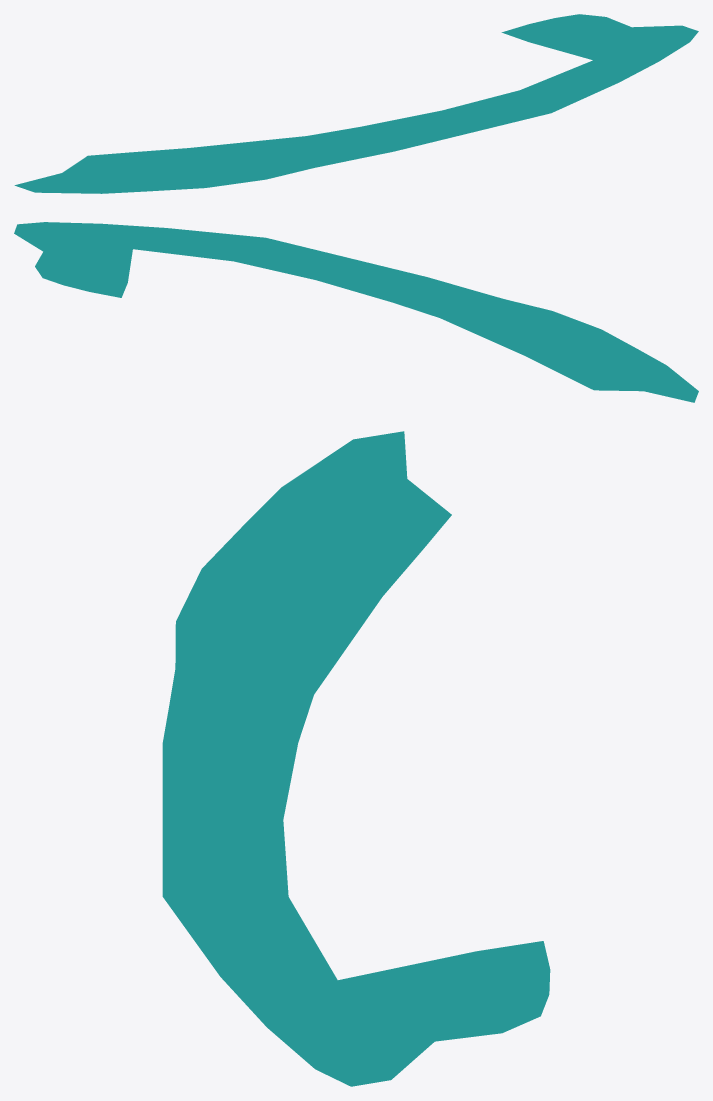
Rendered from frog_color_4.fbx.
The picture shows the model from 3 angles, top to bottom: view 1: azimuth 30°, elevation 25°; view 2: azimuth 150°, elevation 25°; view 3: azimuth 270°, elevation 25°; orthographic projection. The views are drawn at different scales.
Visible parts, largest first — view 1: frog_color_4; view 2: frog_color_4; view 3: frog_color_4.
Part boxes in pixels (<box>): frog_color_4: <box>14,14,698,193</box>; frog_color_4: <box>14,222,698,402</box>; frog_color_4: <box>162,431,550,1086</box>.
Bounding box in the file's own units: 98.32 × 0 × 24.57.
